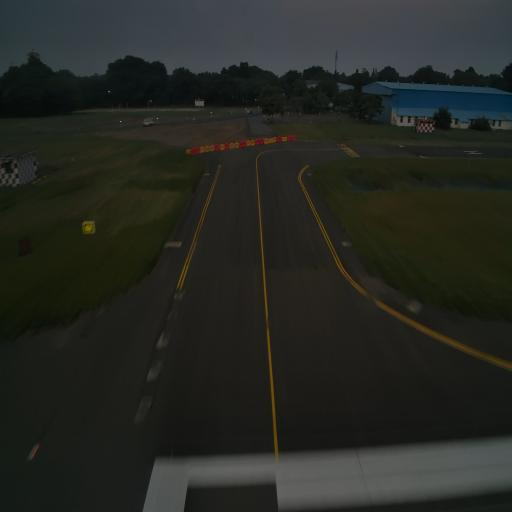on: (29, 439, 44, 463)
